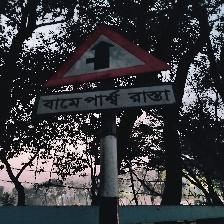Side-road-left: (38, 23, 176, 119)
